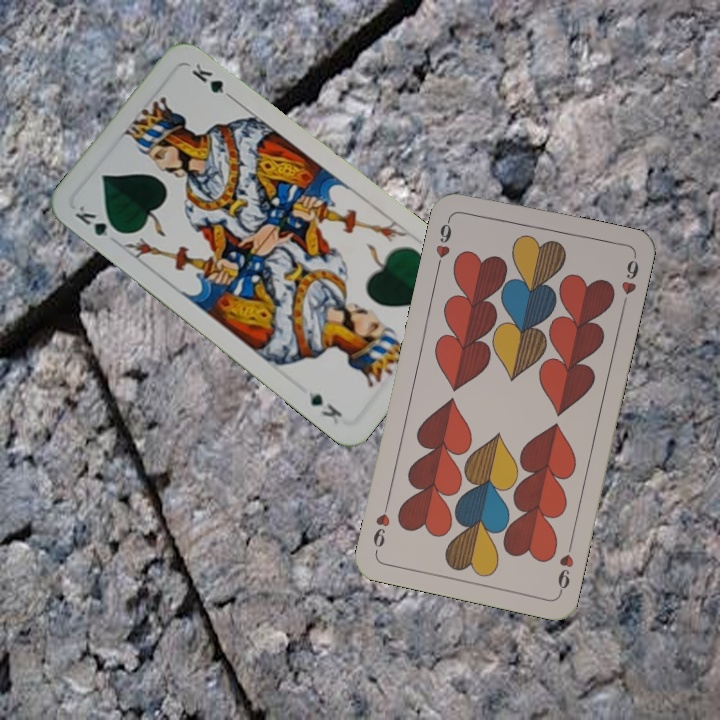GK: (70, 201, 125, 240)
H9: (553, 537, 577, 596), (431, 213, 454, 271)
